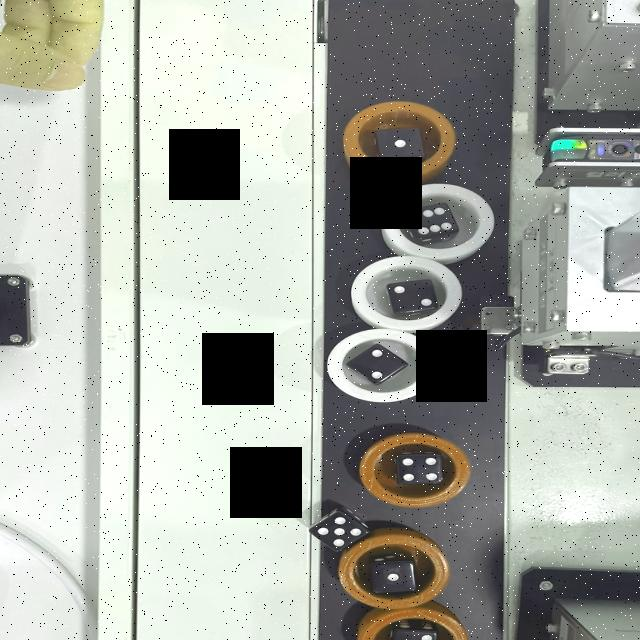DICE1: (378, 129, 422, 158), (369, 560, 413, 588)
DICE2: (389, 278, 435, 310), (356, 347, 400, 379)
DICE3: (398, 631, 440, 640)
DICE4: (399, 453, 444, 482)
DICE5: (316, 514, 366, 548)
DICE6: (408, 207, 452, 237)
RedChip: (344, 102, 450, 180), (360, 436, 468, 508), (341, 538, 445, 610), (359, 612, 471, 640)
WhiteChip: (326, 328, 441, 404), (382, 182, 494, 260), (352, 257, 464, 331)
